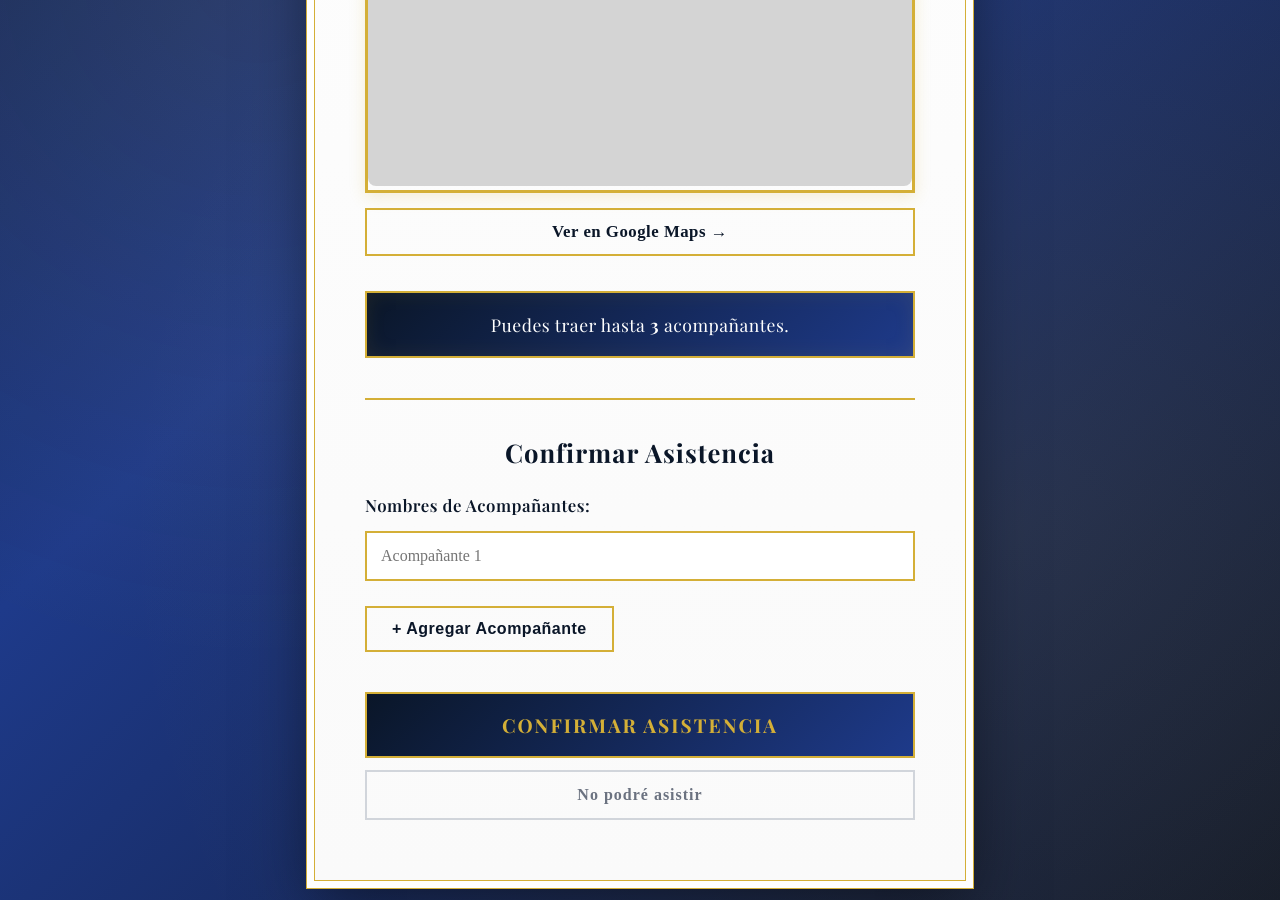
Test: InvitationPage › Test de envío exitoso de confirmación › should filter out empty companion names before submission
(page scrolled)
Add companions but only fill one
Step 1. Click the button "+ Agregar Acompañante" → [489, 629], box [365, 606, 614, 652]
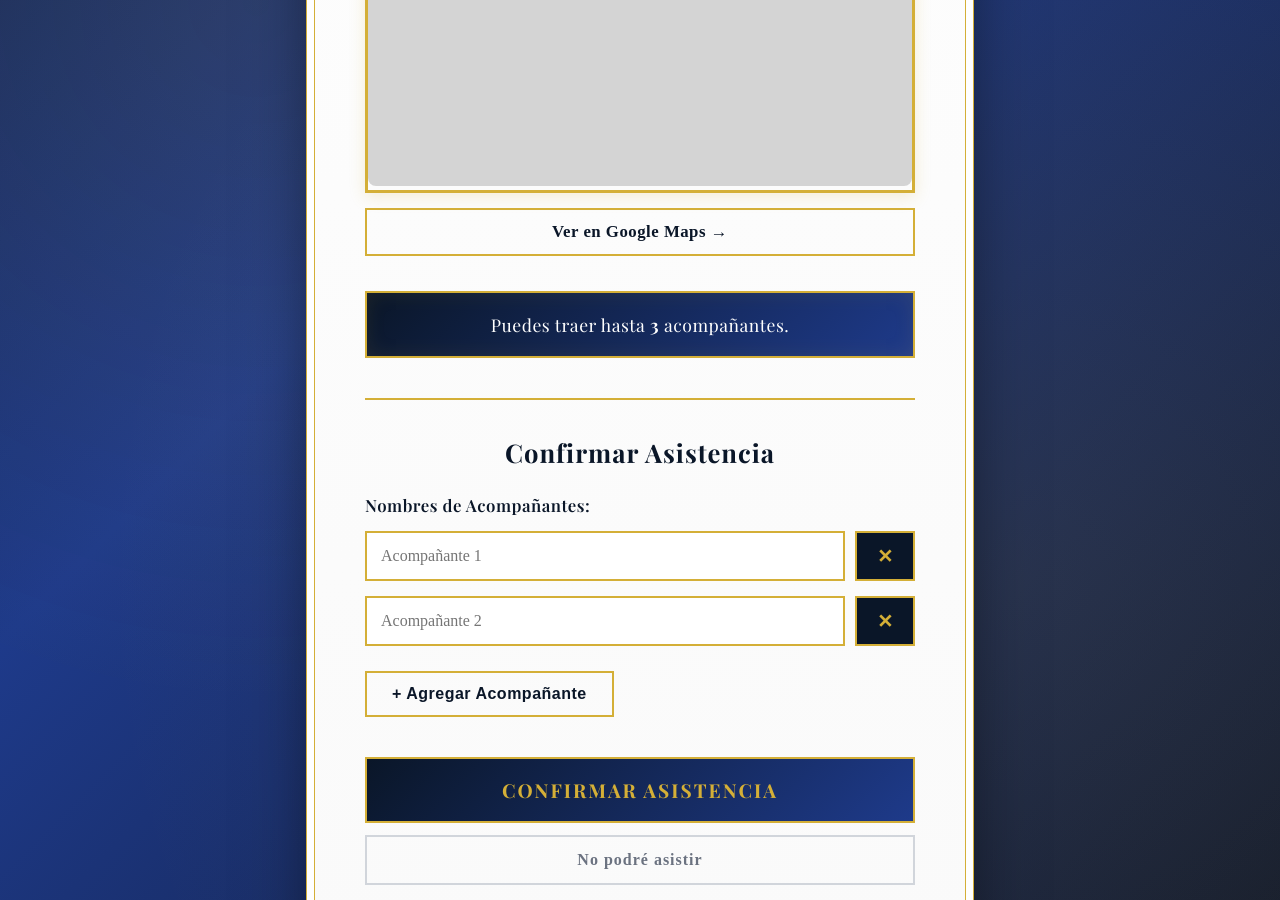
Step 2. Click the button "+ Agregar Acompañante" → [489, 694], box [365, 671, 614, 717]
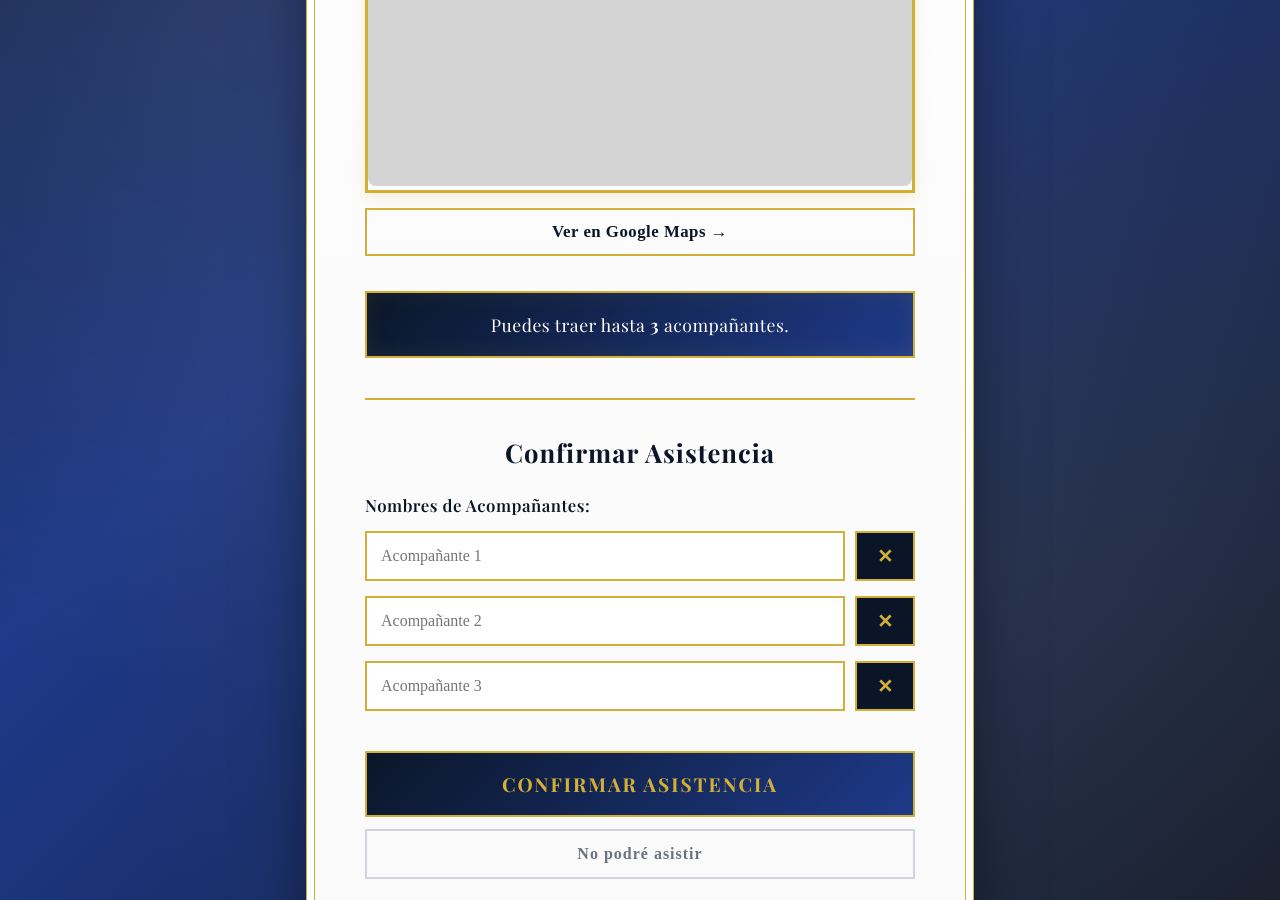
Step 3. Type "Only Companion" into the field with placeholder "Acompañante 2" → [605, 621], box [365, 596, 845, 646]
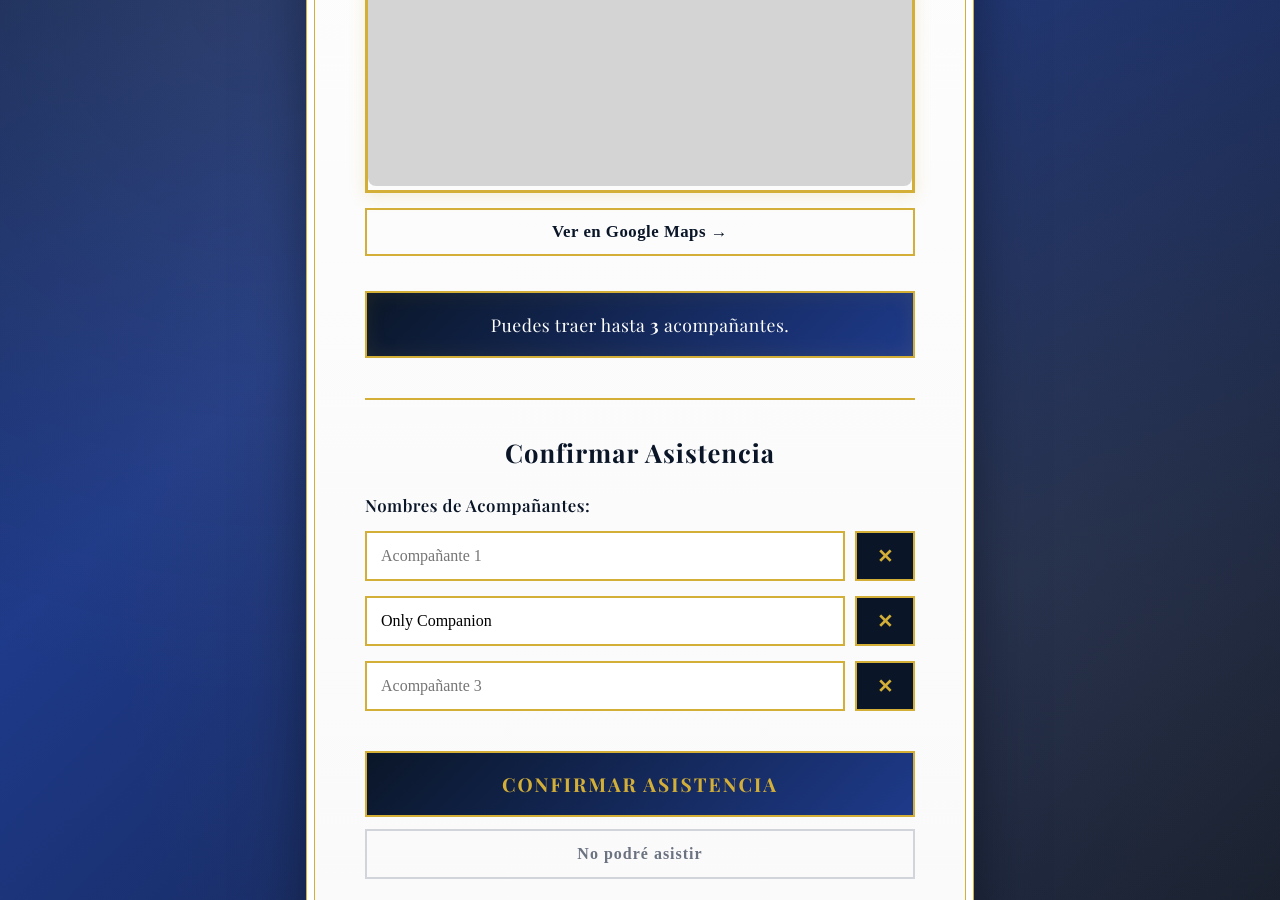
Step 4. Click the button "Confirmar Asistencia" → [640, 784], box [365, 751, 915, 817]
(page scrolled)
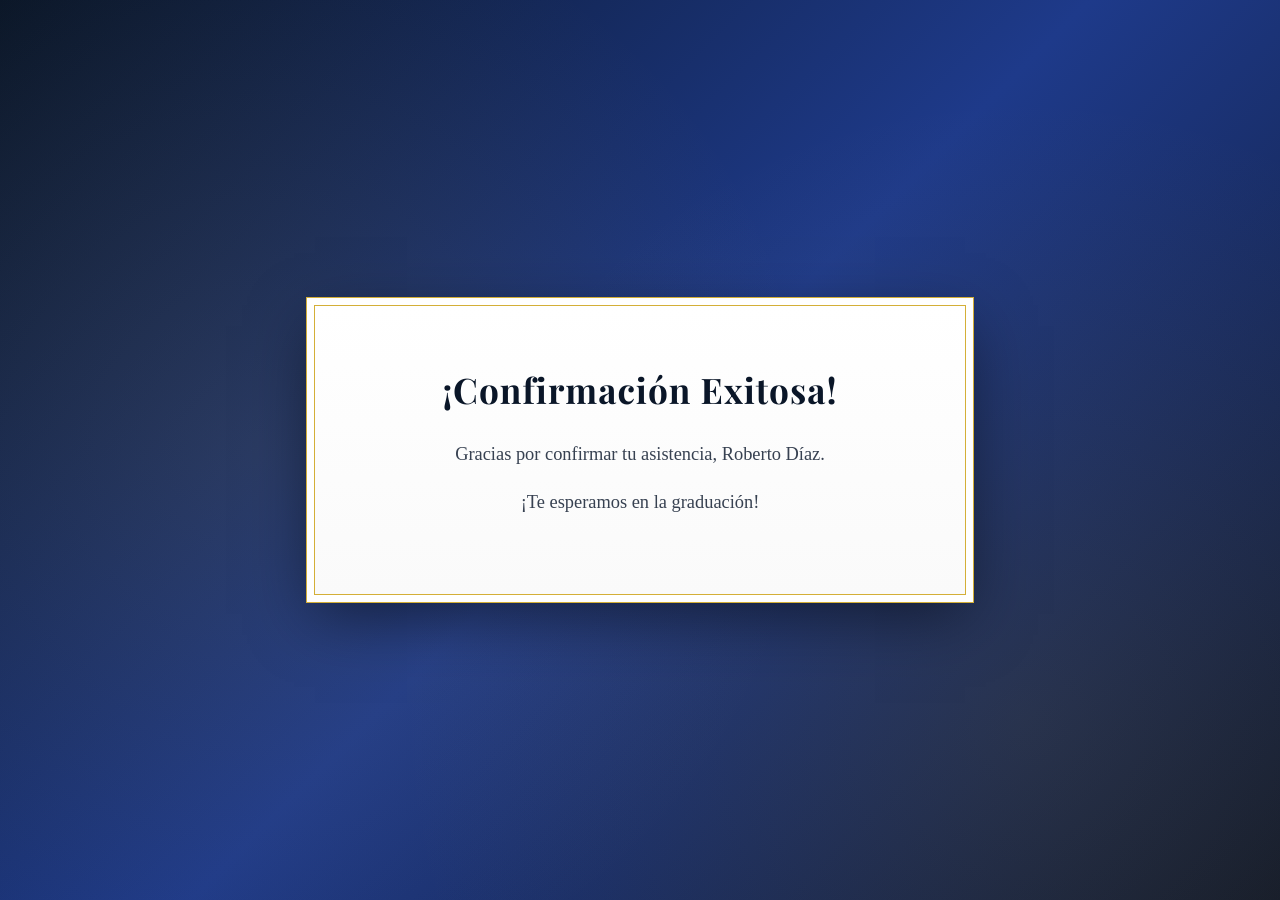
Expected: the heading "¡Confirmación Exitosa!" is shown, [442, 366, 838, 413]
